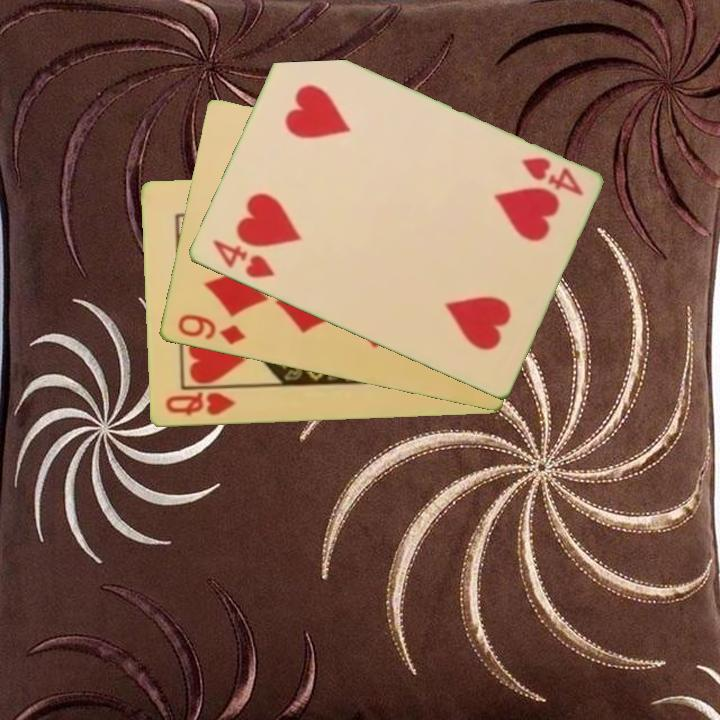4h: (517, 153, 586, 200), (207, 236, 277, 282)
9d: (174, 311, 249, 348)
Qh: (161, 389, 238, 419)
